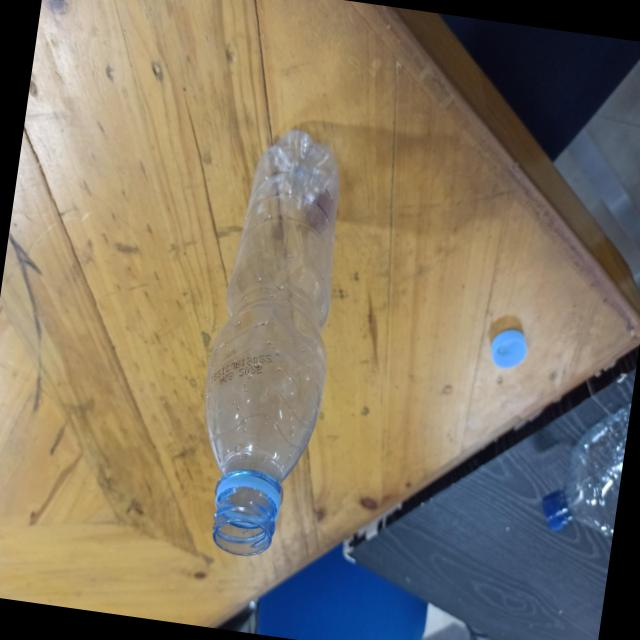BotolPlastik: (180, 122, 360, 566)
